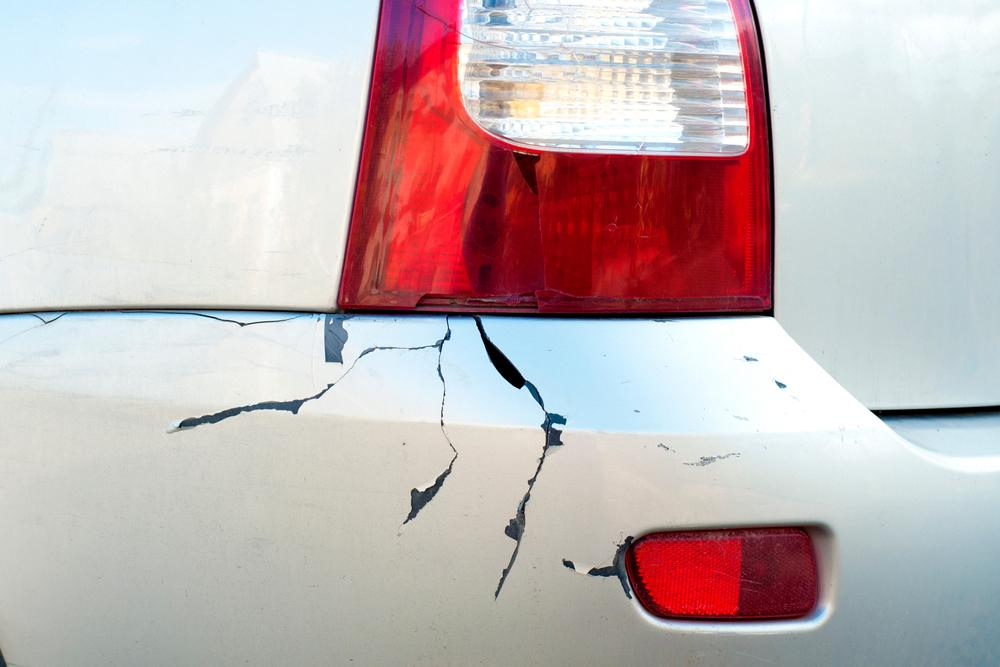crack: (177, 318, 461, 525), (472, 318, 552, 601), (119, 310, 313, 329)
lamp broken: (338, 0, 775, 319)
